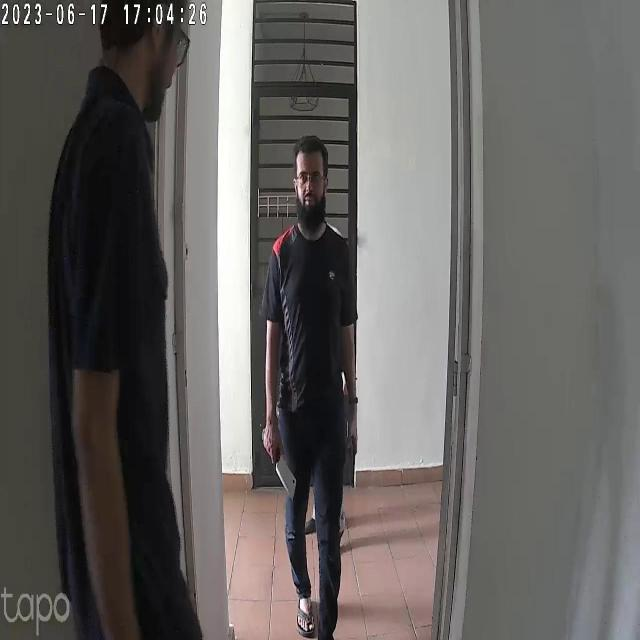Knife: (254, 431, 309, 504)
